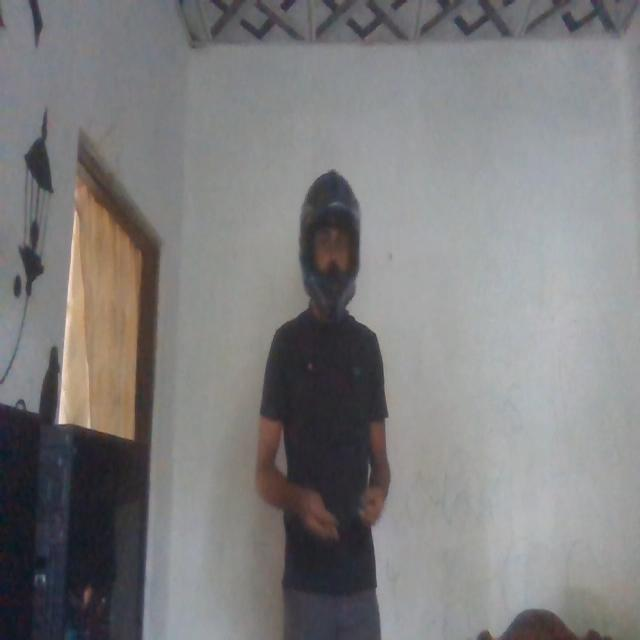Helmet_Wearer: (285, 158, 377, 315)
Person: (253, 157, 393, 640)
